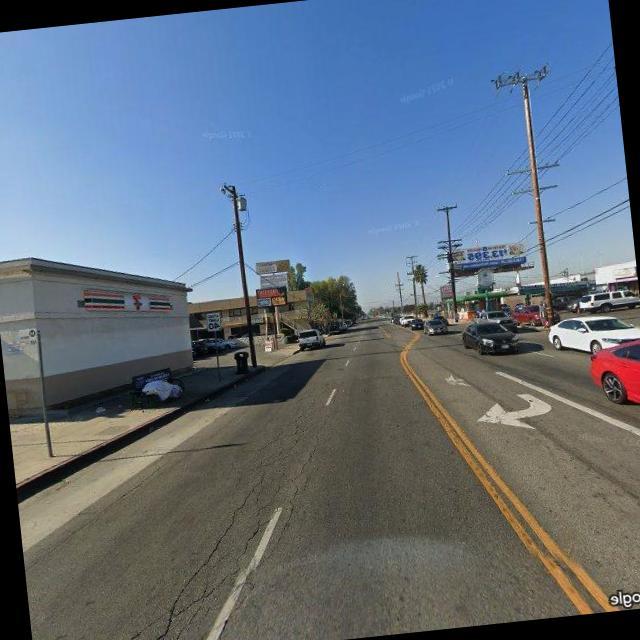crack: (119, 368, 361, 640)
